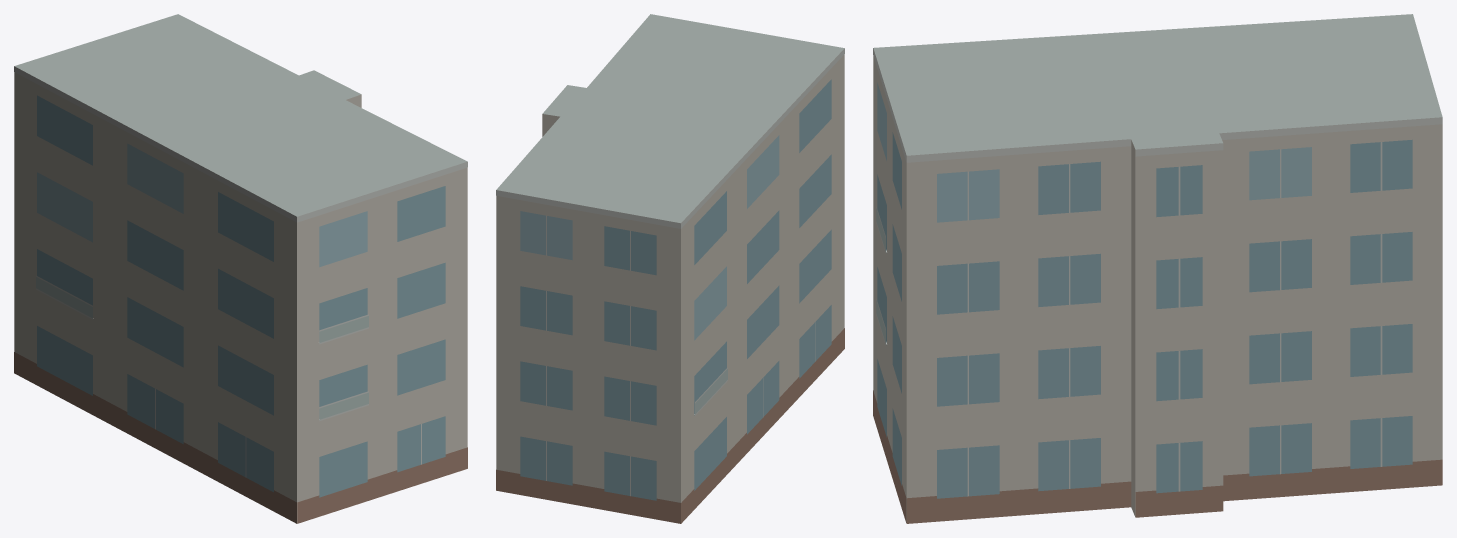
The model's file is survey-upis-32757395.glb.
3 renders of one model, left to right at view 1: azimuth 30°, elevation 25°; view 2: azimuth 150°, elevation 25°; view 3: azimuth 270°, elevation 25°, orthographic. The views are drawn at different scales.
Parts seen in each view (by area): view 1: survey-upis-32757395.tmp; view 2: survey-upis-32757395.tmp; view 3: survey-upis-32757395.tmp.
Boxes of the visible parts, x1,y1,x2,y2 form: survey-upis-32757395.tmp: [14, 14, 467, 523]; survey-upis-32757395.tmp: [496, 14, 844, 523]; survey-upis-32757395.tmp: [873, 14, 1442, 523].
Size of the model in its own units: 10.58 by 12.8 by 17.96.
